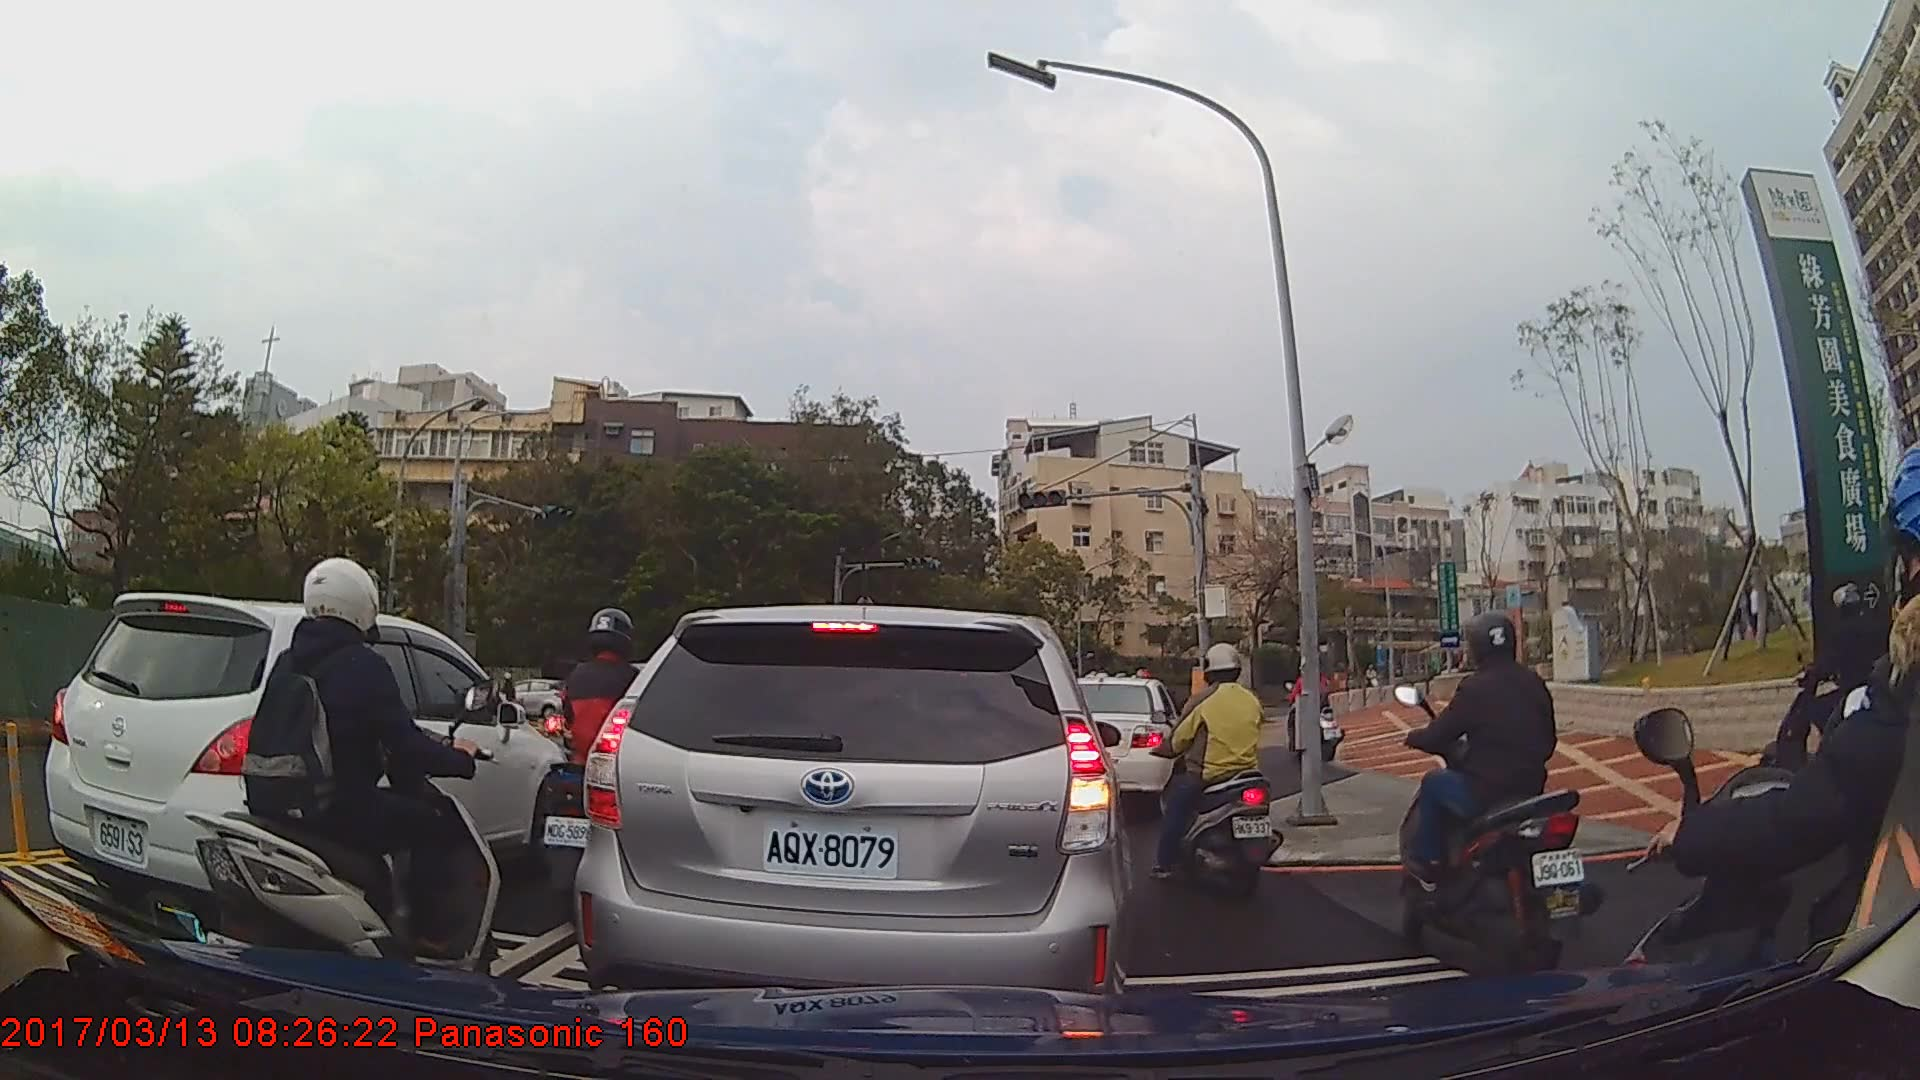pedestrian: (1736, 566, 1778, 644), (1728, 579, 1763, 646)
rider: (1612, 441, 1920, 1080), (190, 552, 504, 1017), (1387, 608, 1599, 972), (537, 607, 674, 919), (1151, 639, 1280, 893), (1755, 579, 1907, 788), (1283, 651, 1347, 765)
vehicle: (569, 602, 1132, 1034), (41, 591, 572, 928), (1065, 673, 1187, 809), (496, 677, 571, 722)
